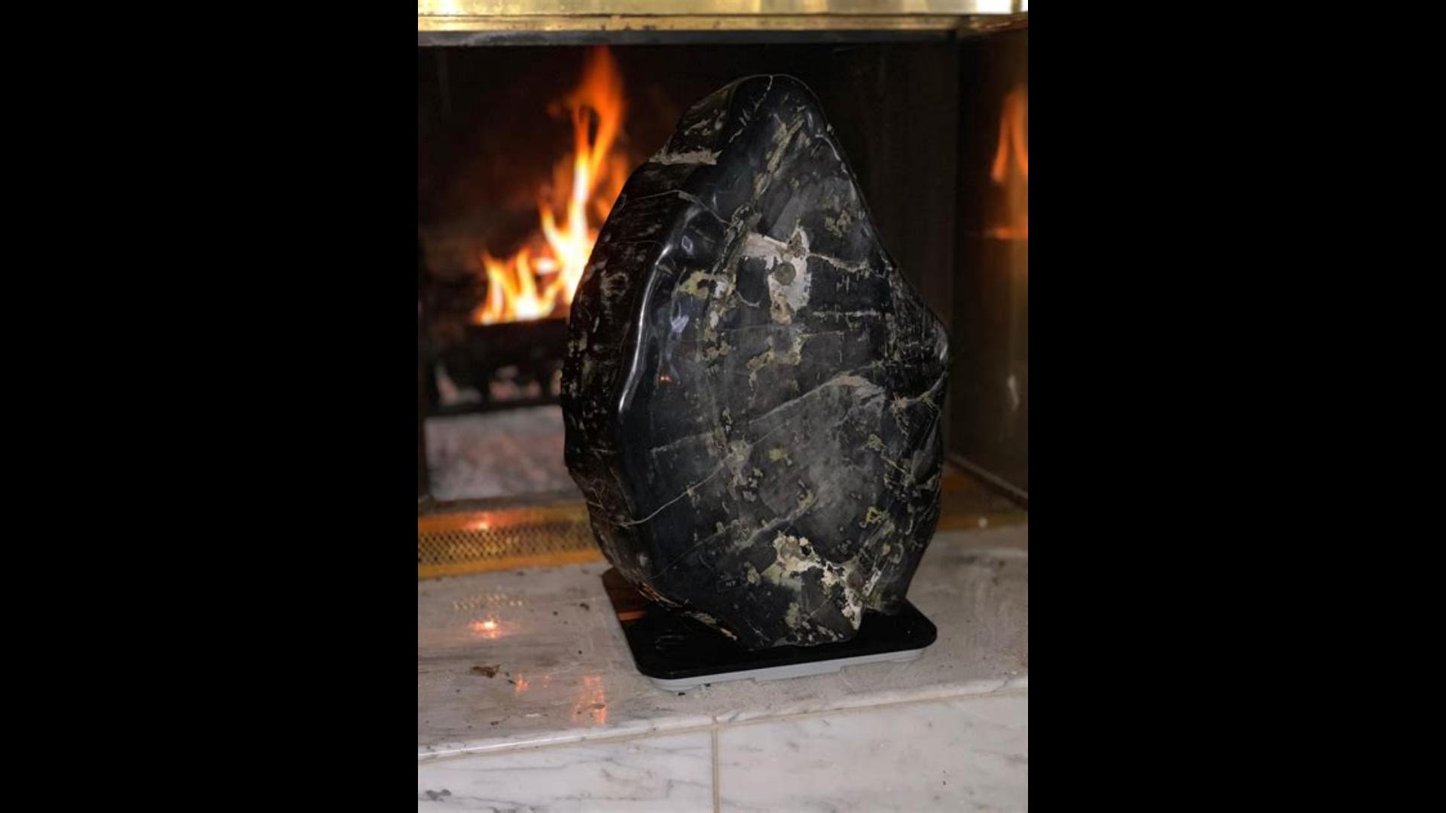rock: (566, 77, 943, 677)
